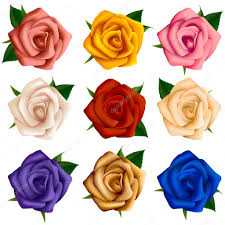lale: (0, 141, 87, 220), (159, 146, 225, 225), (76, 77, 154, 143), (80, 145, 149, 217), (7, 6, 76, 75), (154, 5, 218, 79), (154, 73, 221, 142), (6, 75, 76, 137), (81, 5, 148, 66)
